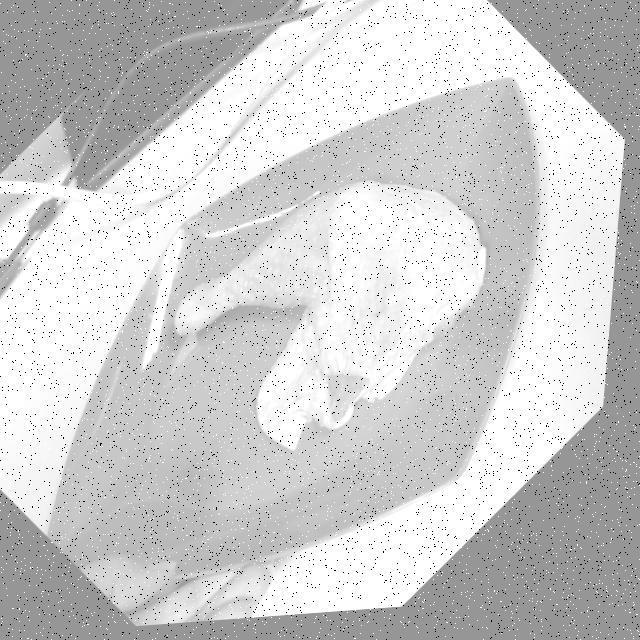quater: (180, 185, 482, 422)
